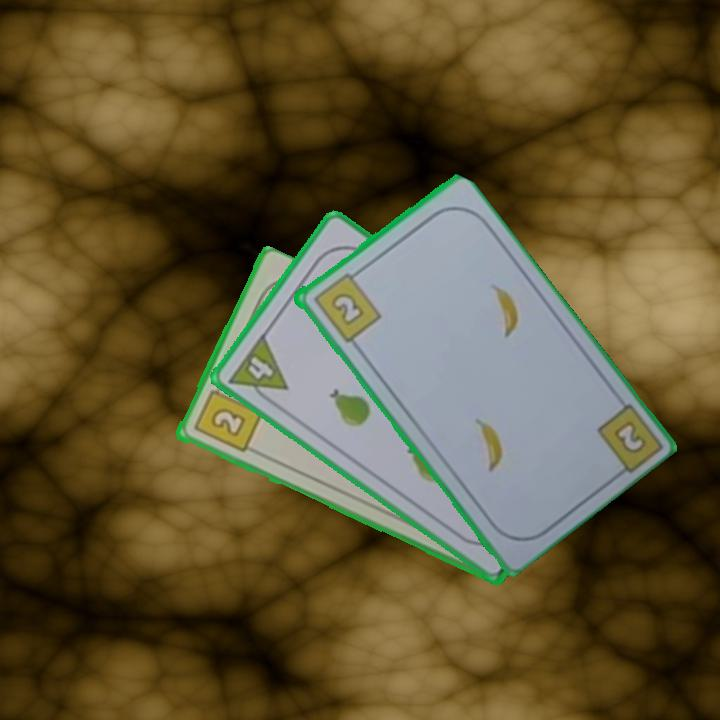2b: (309, 266, 384, 345), (190, 379, 264, 456), (609, 417, 649, 457)
4p: (225, 330, 291, 410)
